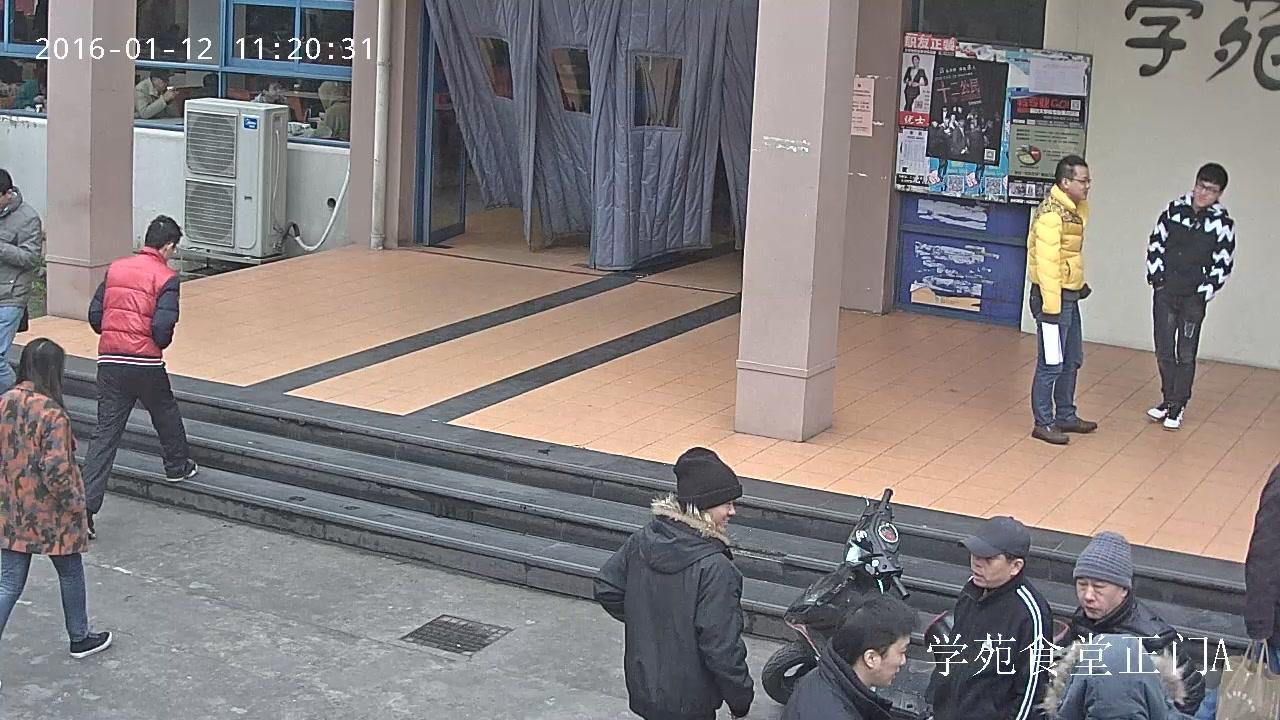person: (593, 447, 754, 717), (0, 337, 112, 688), (82, 213, 198, 538), (1055, 532, 1204, 716), (924, 516, 1053, 720), (1145, 162, 1234, 431), (1026, 156, 1096, 445), (777, 595, 920, 720), (1213, 459, 1280, 720), (0, 169, 44, 393), (133, 66, 181, 123), (306, 81, 350, 140), (902, 54, 928, 111)
